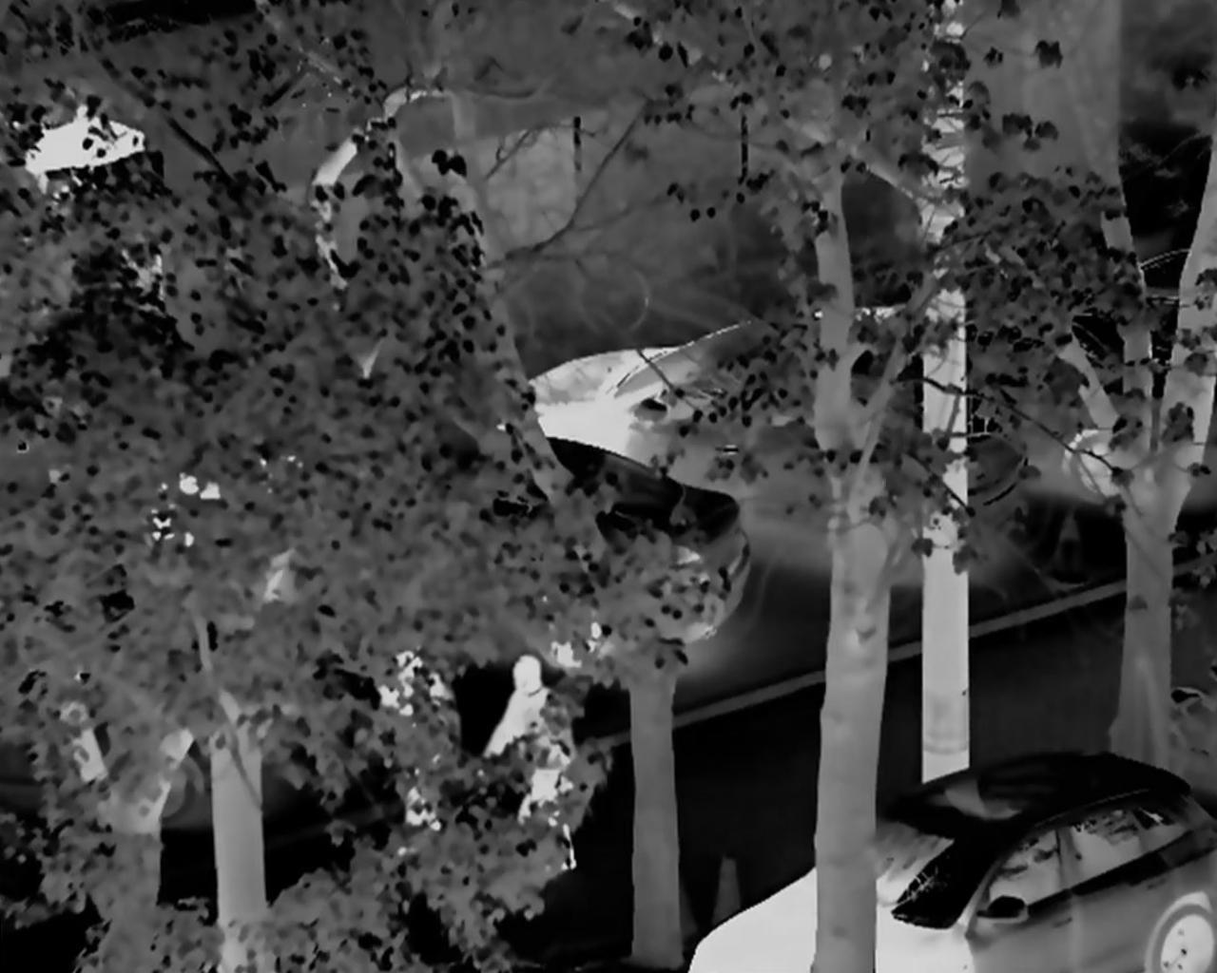person: (482, 658, 599, 877), (362, 620, 458, 855)
